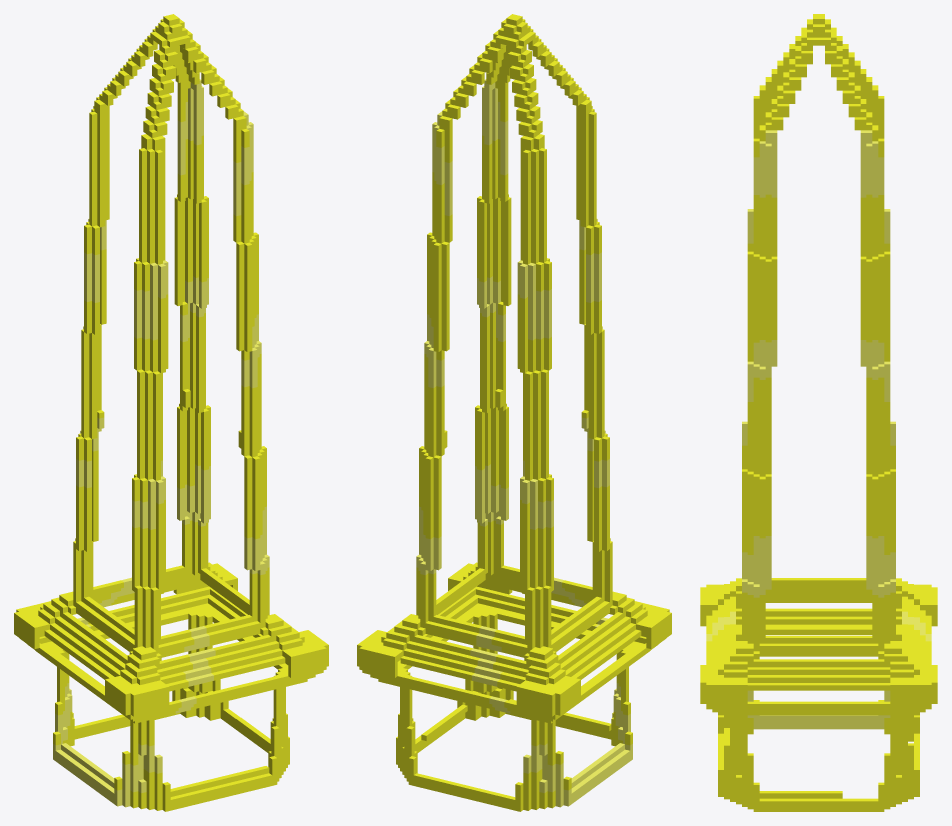
File: Obelisco.obj
3 renders of one model, left to right at view 1: azimuth 30°, elevation 25°; view 2: azimuth 150°, elevation 25°; view 3: azimuth 270°, elevation 25°, orthographic.
Bounding box in the file's own units: 4 × 14 × 4.
1 material, 1 textured.
